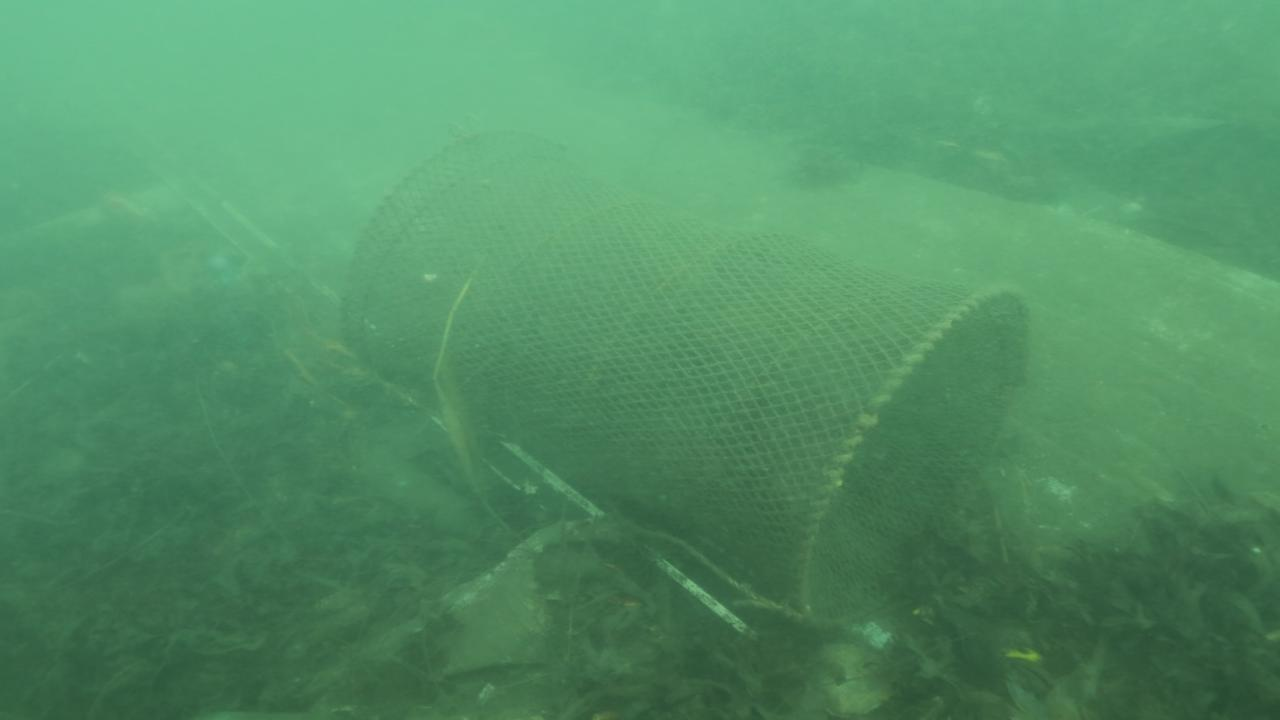spring fish trap: (336, 126, 1035, 626)
